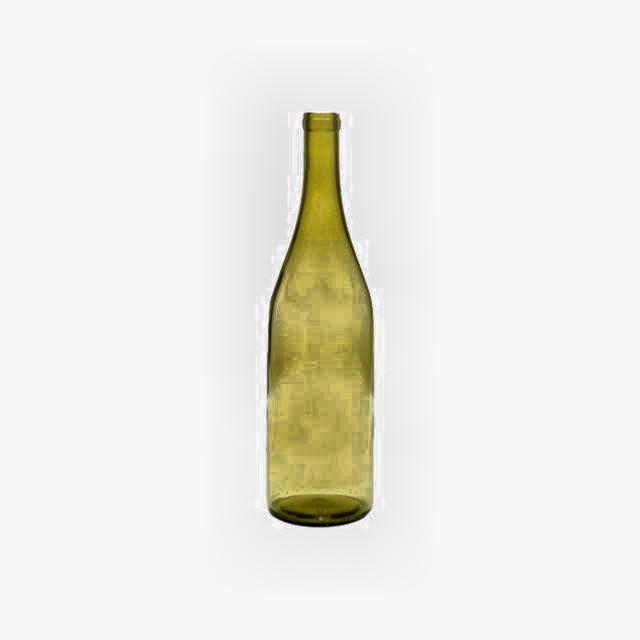glass: (266, 112, 374, 529)
